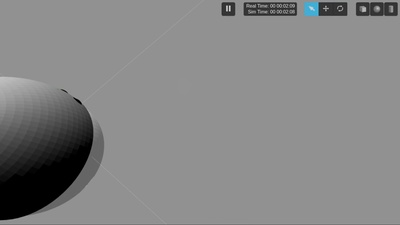mira_robot: (1, 75, 106, 220)
